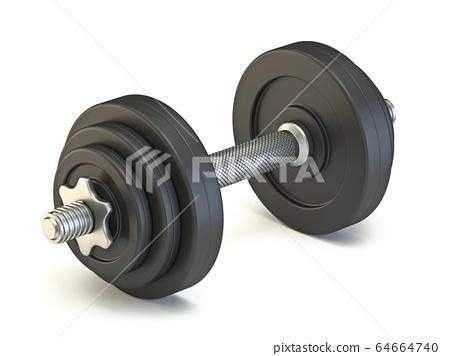Barbell: (41, 210, 69, 248)
